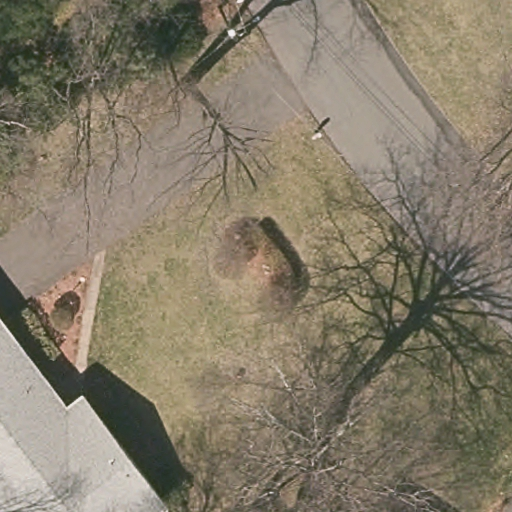DT: (225, 18, 261, 44)
